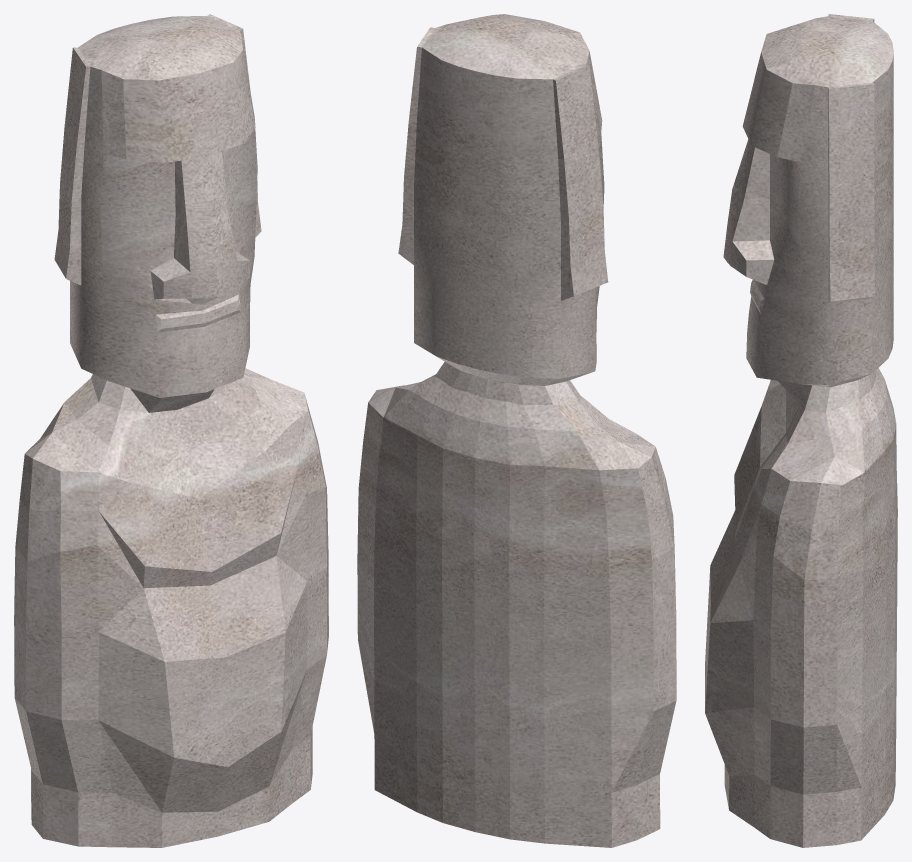
The model's file is moai-grad.glb.
3 renders of one model, left to right at view 1: azimuth 30°, elevation 25°; view 2: azimuth 150°, elevation 25°; view 3: azimuth 270°, elevation 25°, orthographic. The views are drawn at different scales.
Visible parts, largest first — view 1: Cylinder005__0_n3d; view 2: Cylinder005__0_n3d; view 3: Cylinder005__0_n3d.
Part boxes in pixels (bbox=[...]): Cylinder005__0_n3d: bbox=[14, 14, 328, 847]; Cylinder005__0_n3d: bbox=[357, 14, 676, 847]; Cylinder005__0_n3d: bbox=[705, 14, 897, 847].
Bounding box in the file's own units: 0.7947 × 1.92 × 0.448.
1 material, 1 textured.
